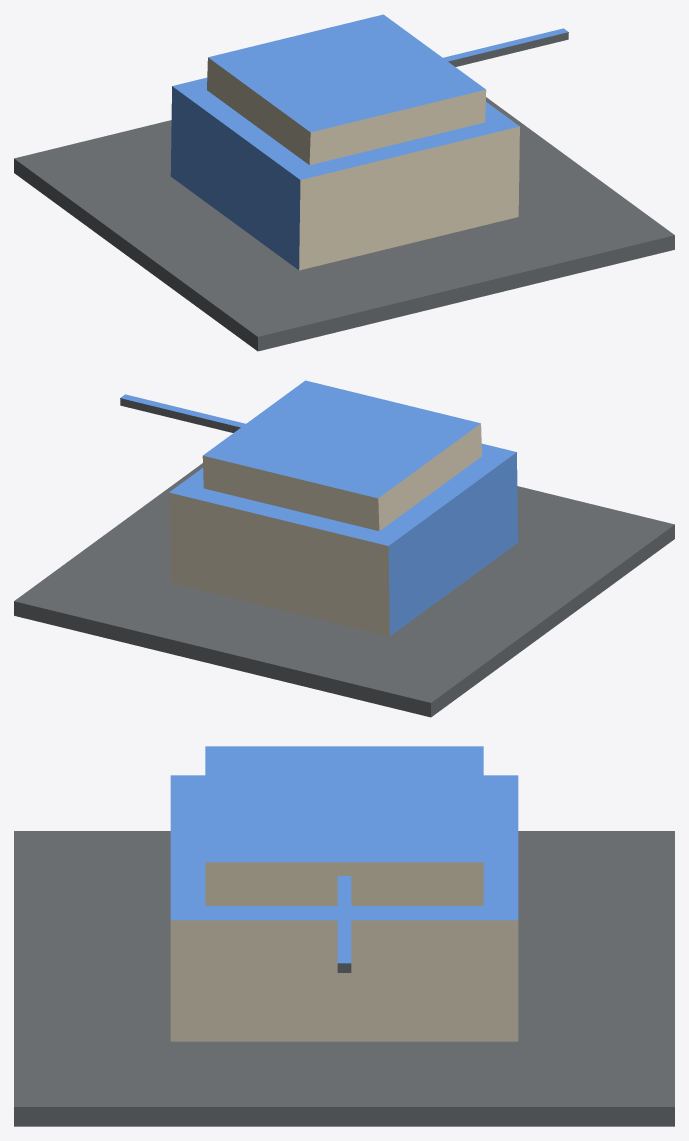
Rendered from meridian_advanced_defences_damaged.glb.
3 renders of one model, top to bottom at view 1: azimuth 30°, elevation 25°; view 2: azimuth 150°, elevation 25°; view 3: azimuth 270°, elevation 25°, orthographic. The views are drawn at different scales.
Visible parts, largest first — view 1: hull, turret, barrel; view 2: hull, turret, barrel; view 3: hull, turret, barrel.
Part boxes in pixels (<box>): hull: <box>14,77,674,351</box>; turret: <box>207,14,486,165</box>; barrel: <box>443,28,568,66</box>; hull: <box>14,443,674,717</box>; turret: <box>202,380,481,531</box>; barrel: <box>120,394,245,432</box>; hull: <box>14,775,674,1126</box>; turret: <box>205,746,483,905</box>; barrel: <box>337,876,351,972</box>.
Size of the model in its own units: 7.74 by 2.36 by 7.6.
